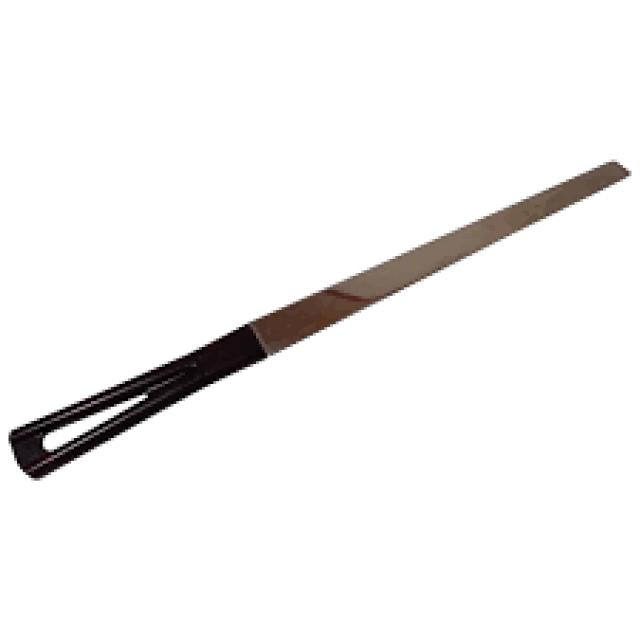Knife: (6, 156, 632, 478)
